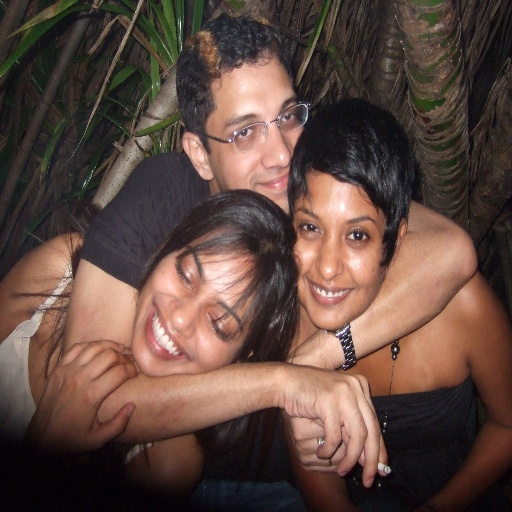hand: (21, 341, 138, 450), (277, 356, 346, 473)
